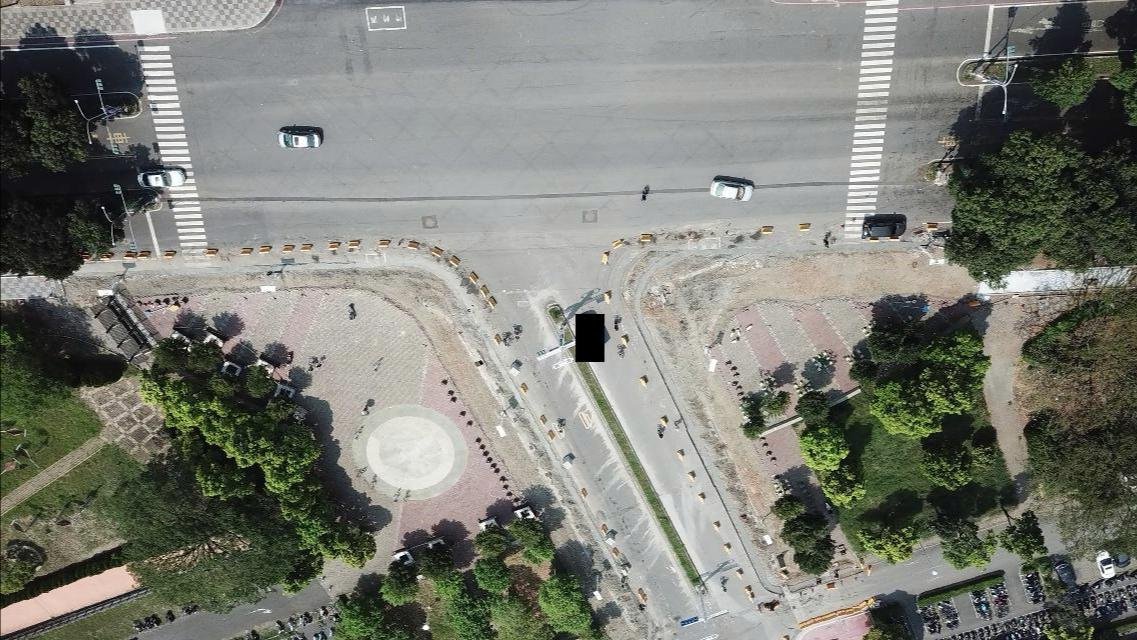vehicle: (710, 177, 754, 203), (861, 215, 906, 239), (137, 169, 186, 190), (276, 128, 322, 150), (1054, 561, 1078, 594), (1095, 549, 1115, 580), (1115, 553, 1131, 568)
